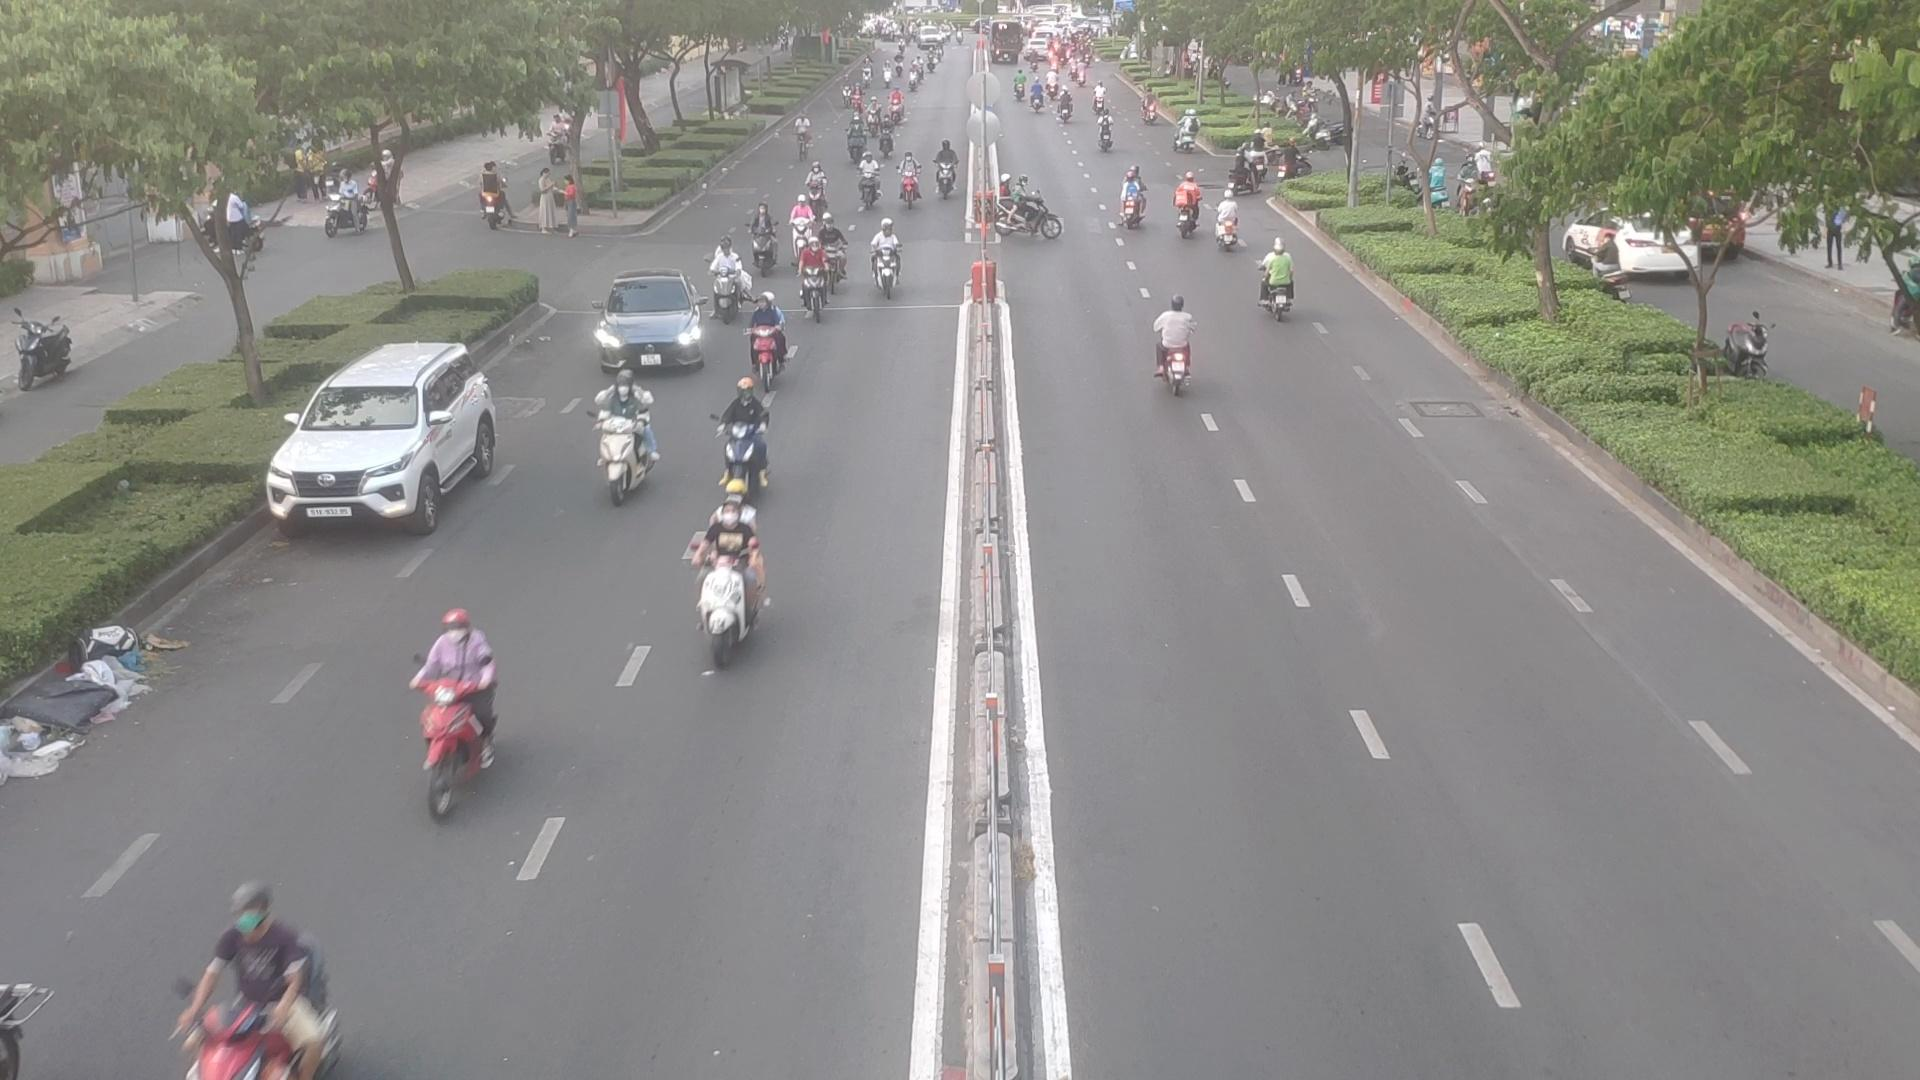car: (268, 343, 513, 531), (585, 272, 709, 375)
motorbike: (164, 905, 336, 1080), (400, 612, 505, 812), (676, 505, 761, 665), (585, 378, 658, 504), (709, 386, 769, 492), (1147, 293, 1207, 392), (990, 175, 1069, 245), (738, 295, 795, 384), (1250, 245, 1303, 320), (864, 222, 907, 295), (742, 206, 783, 273), (811, 218, 853, 282), (802, 240, 831, 326), (709, 266, 752, 320), (1170, 178, 1204, 237), (789, 200, 818, 262), (1121, 173, 1153, 227), (1216, 200, 1247, 255), (852, 158, 882, 208), (895, 152, 920, 208), (804, 161, 828, 214), (938, 138, 957, 200), (847, 113, 862, 165), (880, 116, 897, 158)
